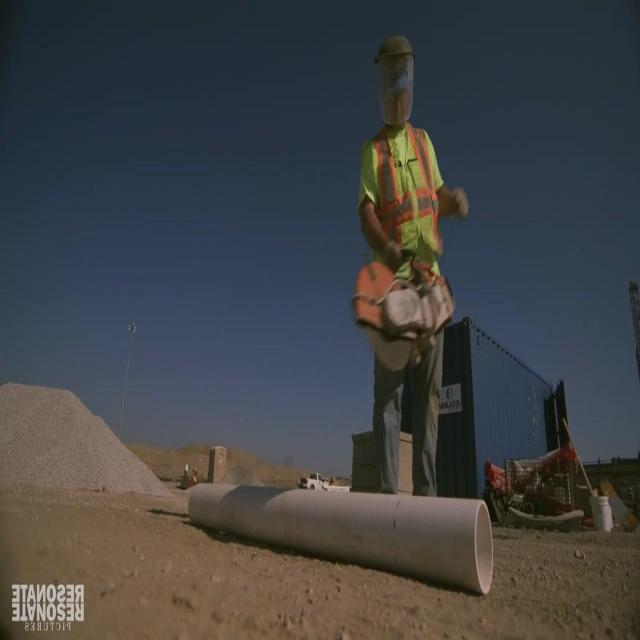Reflective-Jacket: (349, 121, 455, 297)
Safety-Helmet: (366, 25, 424, 107)
